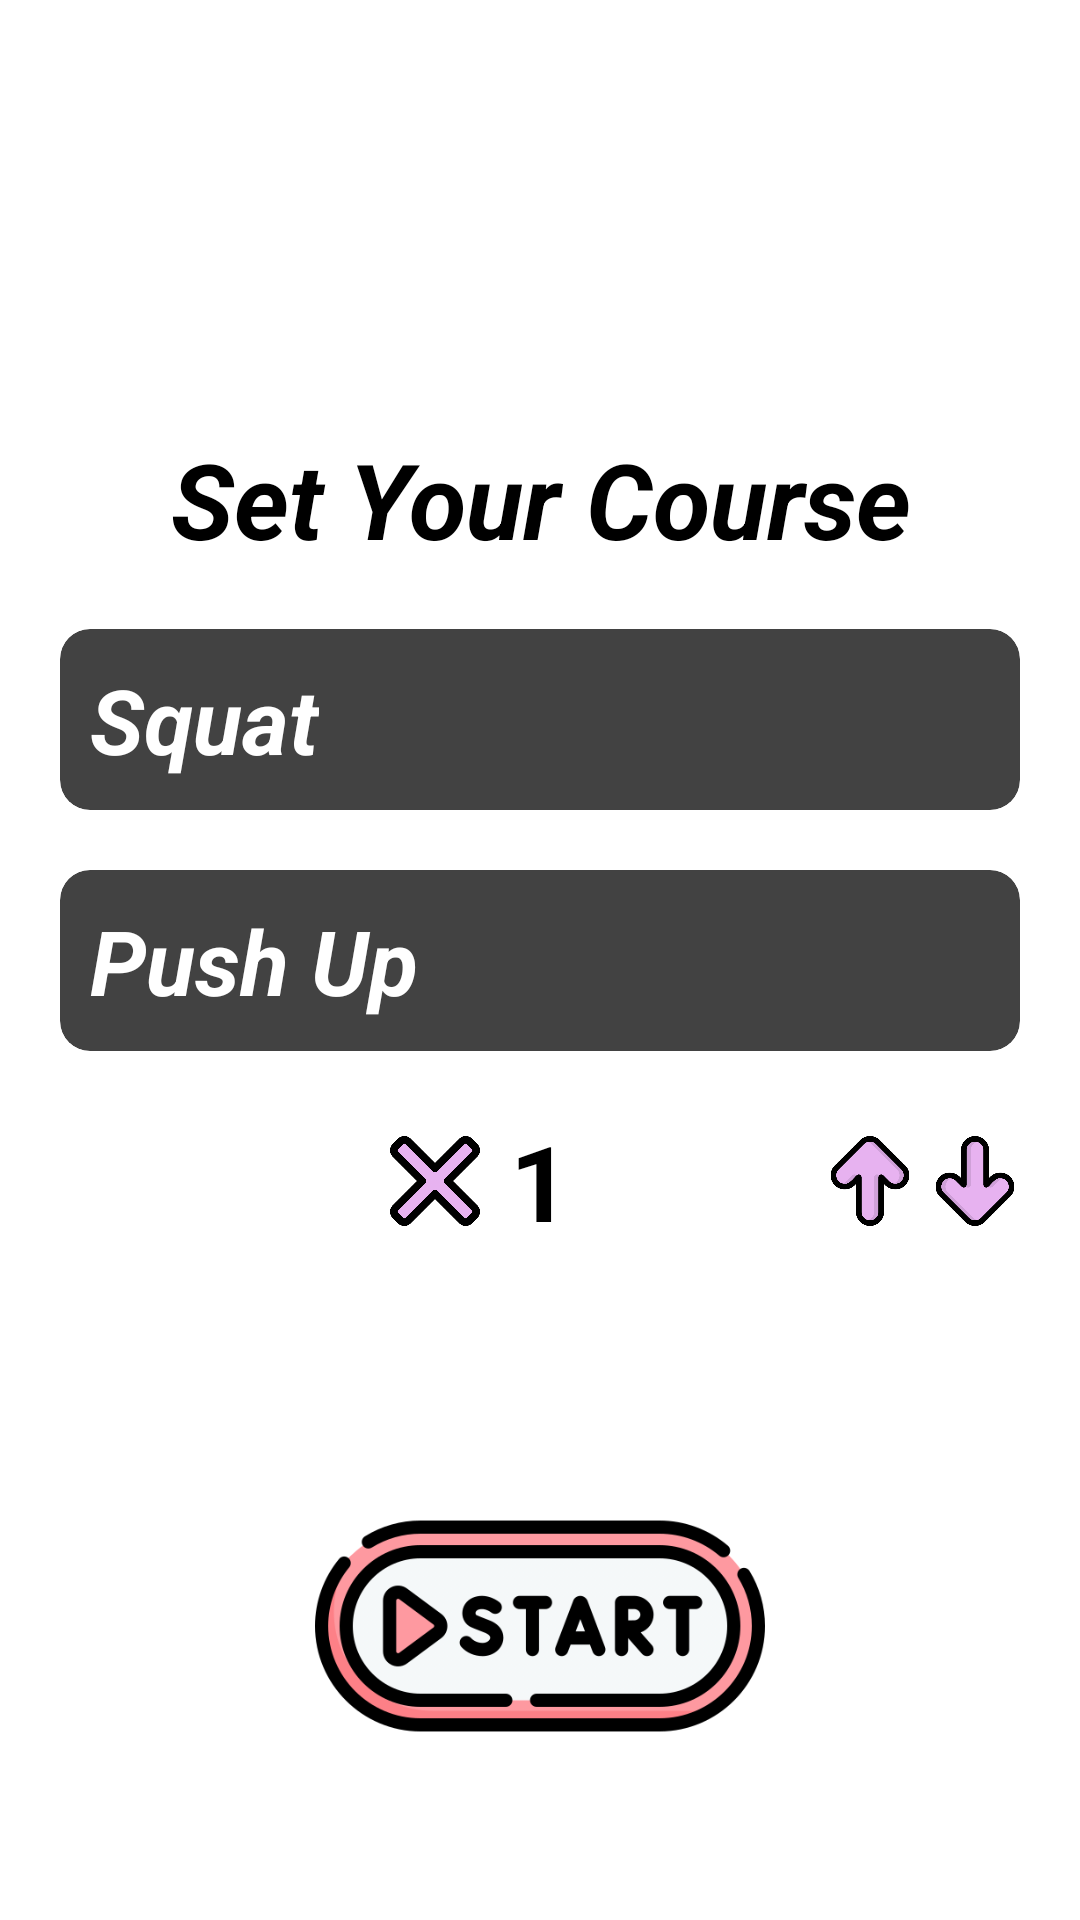

Where icons sit on this 1080w x 1920h app screen, as BBox(x1, y1, x2, y2):
arrow down: BBox(936, 1136, 1014, 1226)
arrow up: BBox(831, 1136, 909, 1226)
multiply: BBox(390, 1136, 480, 1226)
